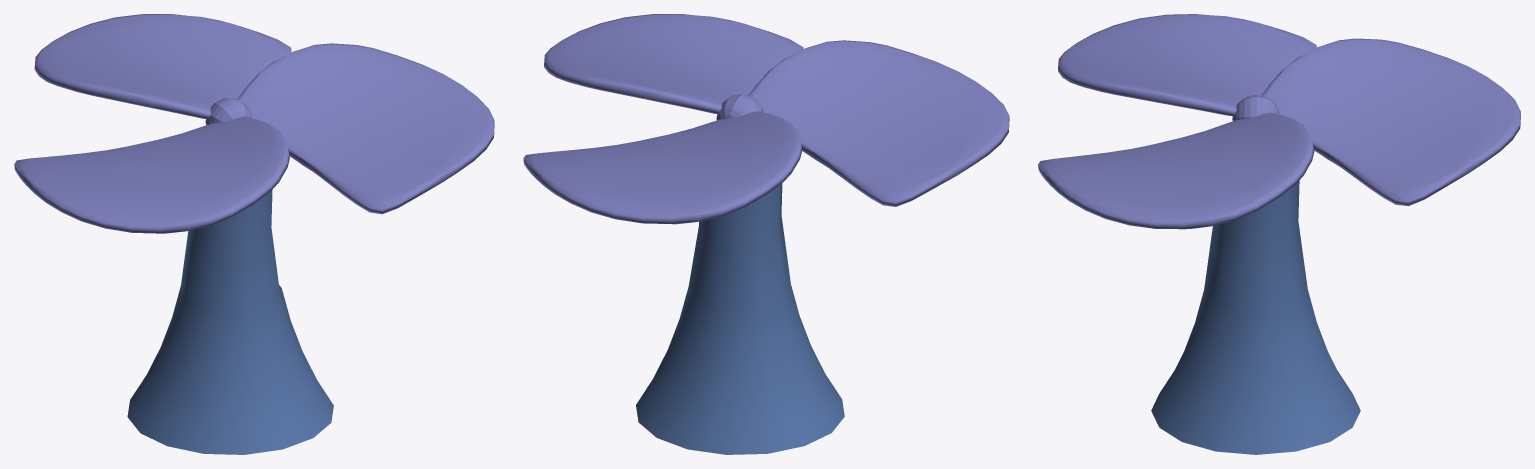
The model's file is fan_061.fbx.
3 renders of one model, left to right at view 1: azimuth 30°, elevation 25°; view 2: azimuth 150°, elevation 25°; view 3: azimuth 270°, elevation 25°, orthographic.
Visible parts, largest first — view 1: blade, base; view 2: blade, base; view 3: blade, base.
Boxes of the visible parts, <box> form: blade: <box>14,14,494,233</box>; base: <box>127,190,333,454</box>; blade: <box>523,14,1009,224</box>; base: <box>636,183,844,454</box>; blade: <box>1038,14,1520,229</box>; base: <box>1151,180,1360,454</box>.
Bounding box in the file's own units: 85.76 × 61.48 × 83.61.
